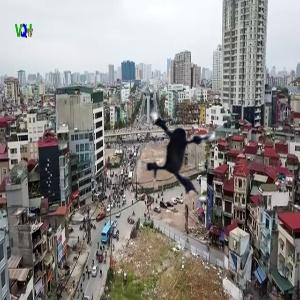drone: (126, 91, 248, 213)
